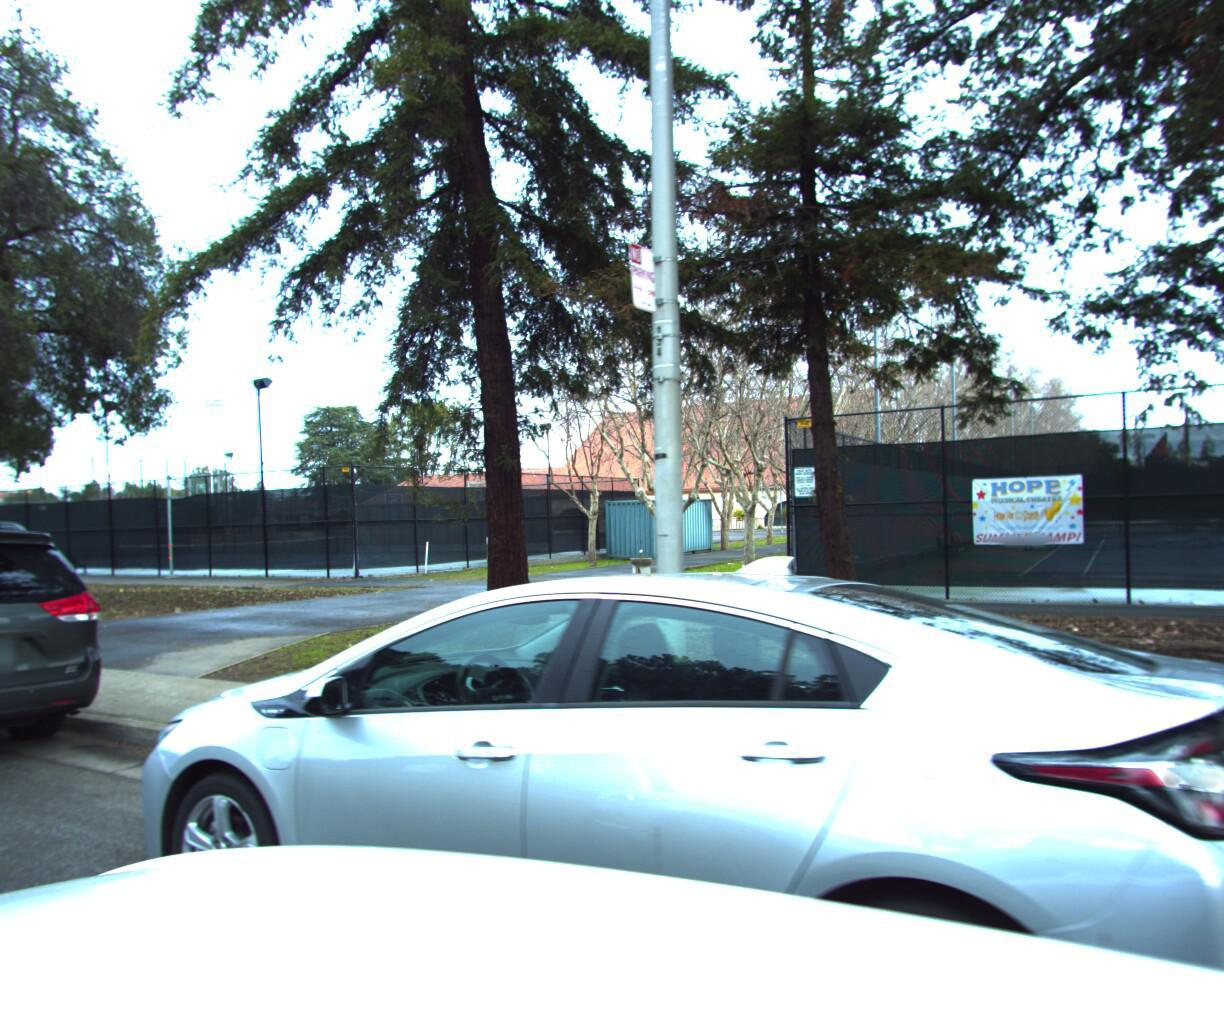car: (33, 552, 1224, 1024), (0, 504, 138, 837)
